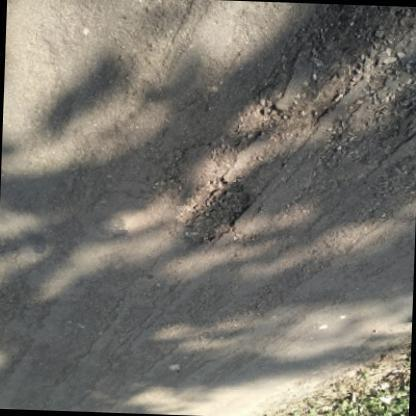pothole: (274, 6, 416, 148), (170, 128, 254, 246)
